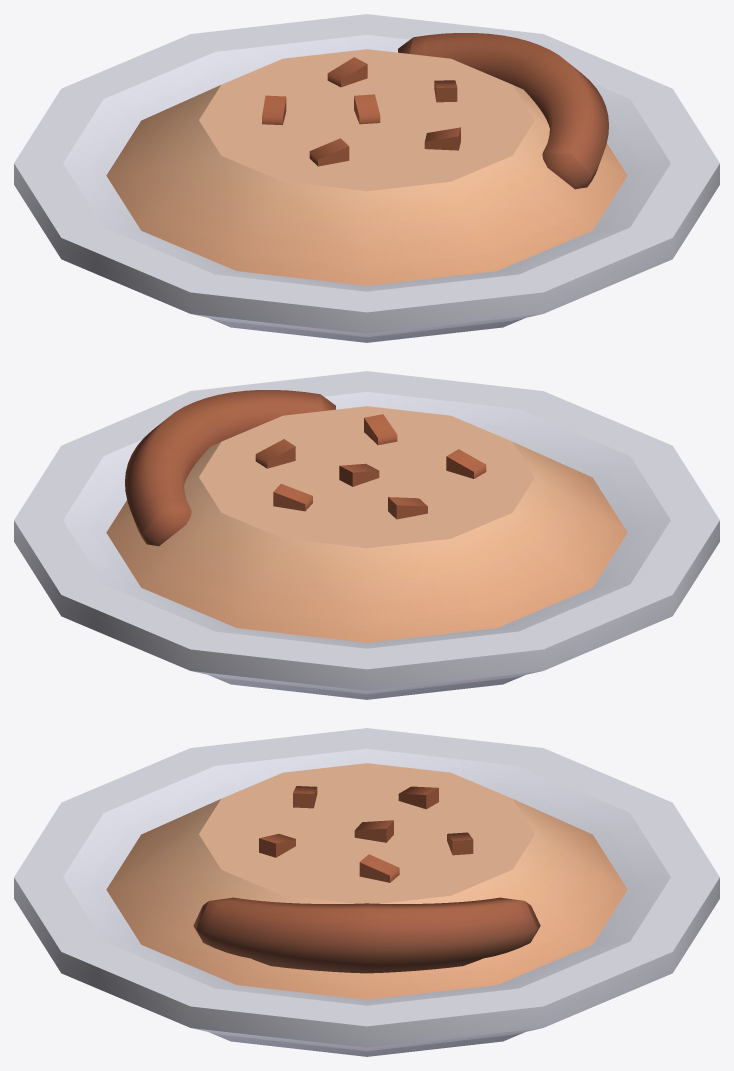
The model's file is kenney-food-plate.glb.
3 views of the same model, one above another, from view 1: azimuth 30°, elevation 25°; view 2: azimuth 150°, elevation 25°; view 3: azimuth 270°, elevation 25° (orthographic).
Parts seen in each view (by area): view 1: plate-sauerkraut; view 2: plate-sauerkraut; view 3: plate-sauerkraut.
Part boxes in pixels (x1=…): plate-sauerkraut: x1=14, y1=14, x2=719, y2=342; plate-sauerkraut: x1=14, y1=371, x2=719, y2=699; plate-sauerkraut: x1=14, y1=728, x2=719, y2=1056.
Size of the model in its own units: 0.8918 by 0.1752 by 0.8918.
Materials: 1 (1 with a texture image).
